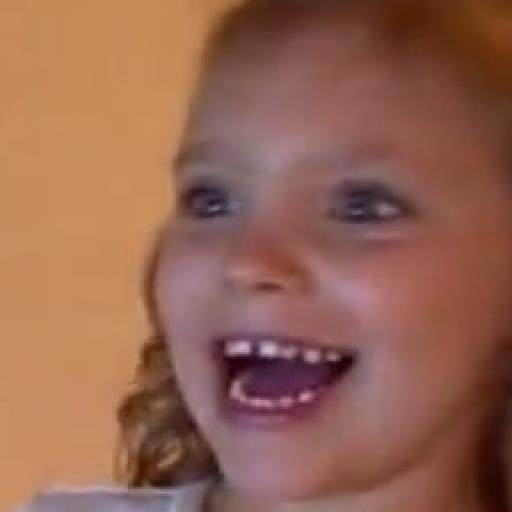Autism: (132, 23, 512, 512)
